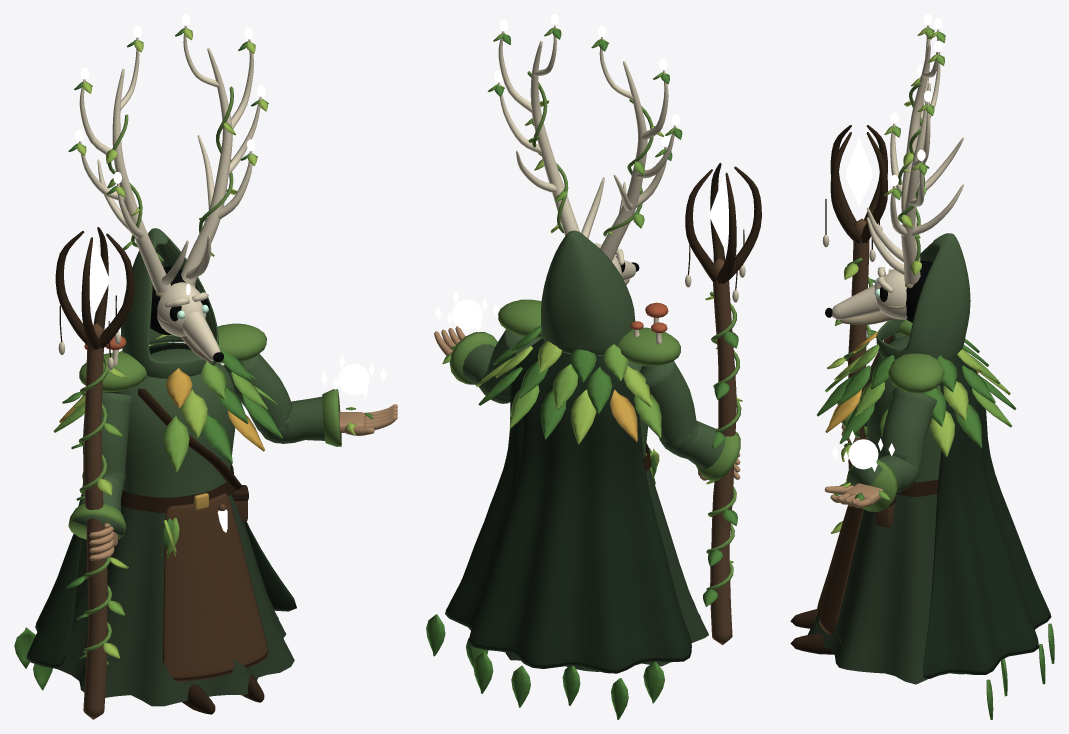
File: DruidV4.fbx
3 views of the same model, side by side, from view 1: azimuth 30°, elevation 25°; view 2: azimuth 150°, elevation 25°; view 3: azimuth 270°, elevation 25° (orthographic). The views are drawn at different scales.
Parts seen in each view (by area): view 1: Root__Robe, Root__Leather, Head__Bone, Torso__RobeLight, Weapon__Bark, Cape__Cloak, Head__RobeLight, ArmL__RobeLight, Weapon__BarkDark, ArmR__RobeLight, Torso__Moss, Torso__LeafA (+17 smaller); view 2: Cape__Cloak, Head__RobeLight, Head__Bone, Weapon__Bark, ArmR__RobeLight, Torso__LeafB, Cape__LeafB, Weapon__BarkDark, Torso__Moss, Torso__LeafA, Torso__LeafC, Root__Robe (+13 smaller); view 3: Cape__Cloak, Root__Robe, Head__Bone, Head__RobeLight, Torso__LeafB, ArmL__RobeLight, Weapon__BarkDark, Root__Leather, Torso__Moss, Torso__RobeLight, Torso__LeafC, Torso__LeafA (+16 smaller).
Part boxes in pixels (<box>): Root__Robe: <box>54,495,294,706</box>; Root__Leather: <box>162,493,267,681</box>; Head__Bone: <box>79,25,261,360</box>; Torso__RobeLight: <box>113,348,235,497</box>; Weapon__Bark: <box>83,323,107,719</box>; Cape__Cloak: <box>26,342,296,668</box>; Head__RobeLight: <box>120,228,218,378</box>; ArmL__RobeLight: <box>223,353,341,443</box>; Weapon__BarkDark: <box>55,227,134,349</box>; ArmR__RobeLight: <box>72,392,132,535</box>; Torso__Moss: <box>79,323,266,392</box>; Torso__LeafA: <box>53,351,277,558</box>; Cape__Cloak: <box>445,338,691,673</box>; Head__RobeLight: <box>541,230,635,355</box>; Head__Bone: <box>498,25,675,280</box>; Weapon__Bark: <box>710,258,736,645</box>; ArmR__RobeLight: <box>639,361,725,469</box>; Torso__LeafB: <box>478,325,656,477</box>; Cape__LeafB: <box>426,614,664,719</box>; Weapon__BarkDark: <box>685,163,761,283</box>; Torso__Moss: <box>498,299,680,366</box>; Torso__LeafA: <box>509,344,661,484</box>; Torso__LeafC: <box>475,341,659,466</box>; Root__Robe: <box>505,456,708,671</box>; Cape__Cloak: <box>923,356,1051,678</box>; Root__Robe: <box>807,494,964,684</box>; Head__Bone: <box>831,25,963,320</box>; Head__RobeLight: <box>876,233,970,360</box>; Torso__LeafB: <box>817,338,1016,448</box>; ArmL__RobeLight: <box>847,387,937,492</box>; Weapon__BarkDark: <box>830,125,887,243</box>; Root__Leather: <box>816,505,863,634</box>; Torso__Moss: <box>888,319,944,393</box>; Torso__RobeLight: <box>867,335,941,482</box>; Torso__LeafC: <box>834,349,1010,465</box>; Torso__LeafA: <box>825,344,1012,438</box>.
Bounding box in the file's own units: 2.15 × 4.17 × 1.58.
